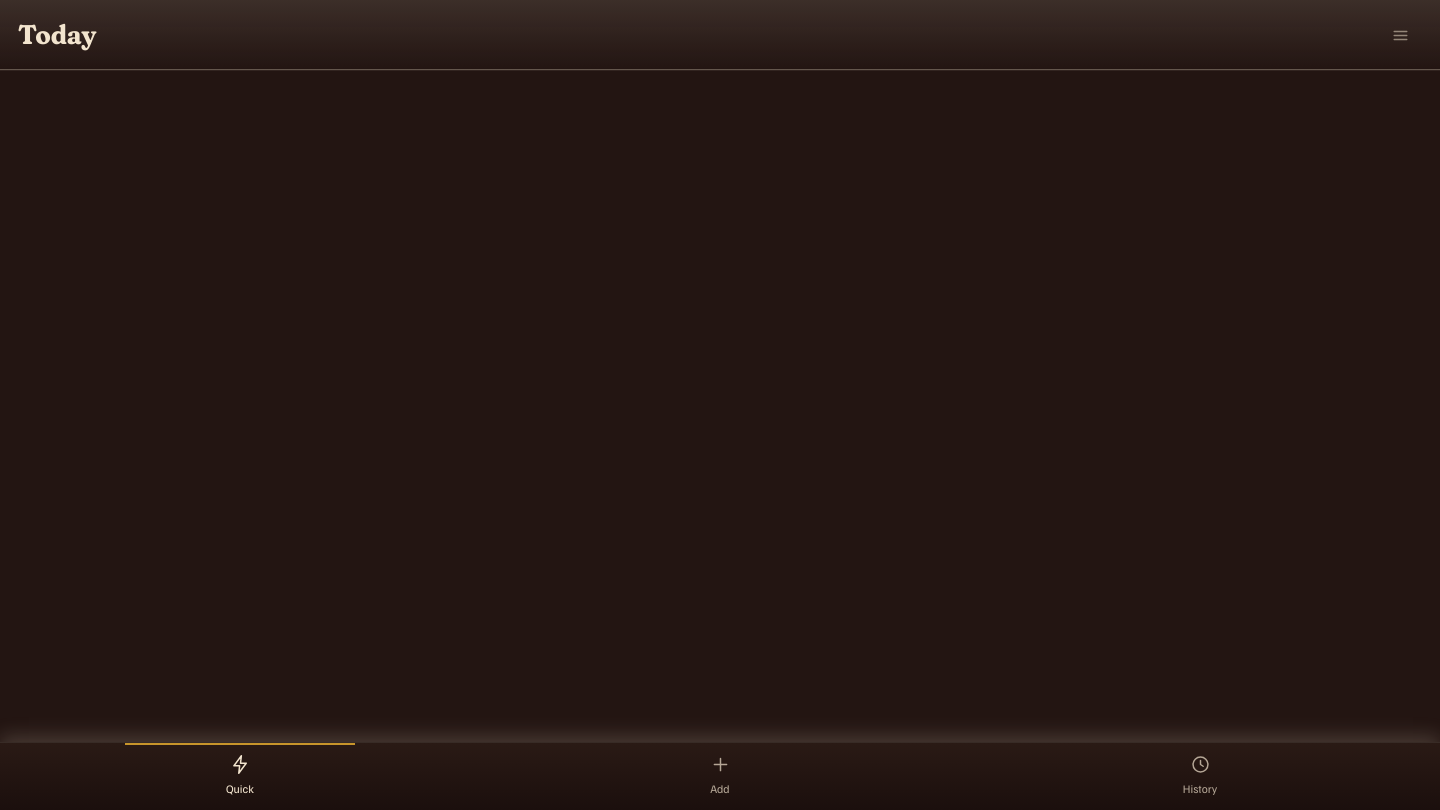
Test: AppFrame › opens the header action menu with actions in product order
Click the button named "Open menu".
click(1400, 35)  # box [1378,13,1422,57]
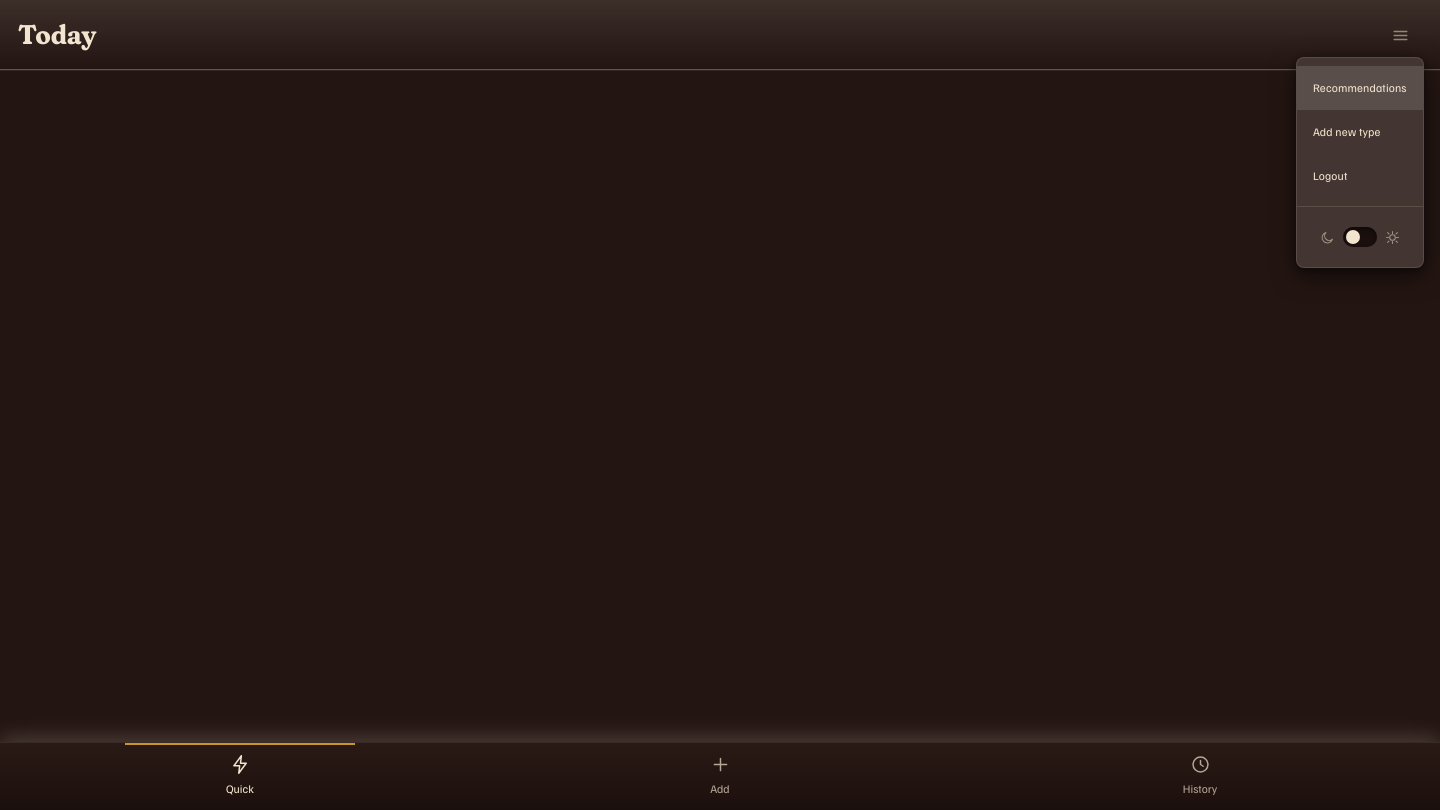
Check: the element with id "header-action-menu" is shown, box [1296,57,1424,268]
